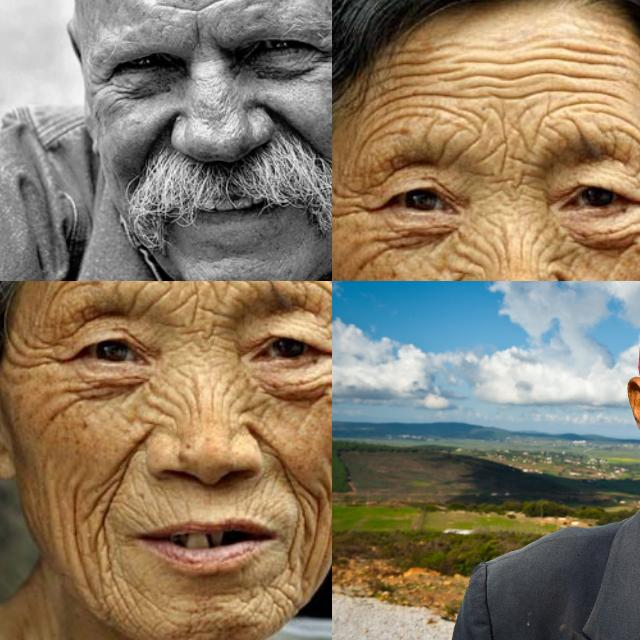bunny_line: (146, 384, 190, 430), (456, 233, 498, 279), (530, 228, 570, 272), (221, 380, 261, 422)
chin: (102, 584, 146, 622), (178, 601, 225, 635), (258, 586, 292, 620)
crows_feet: (16, 338, 60, 372), (332, 186, 369, 221), (90, 69, 118, 97), (316, 36, 332, 65)
forehead: (382, 52, 474, 118), (554, 39, 626, 97), (486, 53, 542, 111), (155, 0, 266, 13)
frown_line: (486, 124, 536, 194), (177, 281, 226, 345), (186, 21, 208, 54)
gummy_smile: (92, 434, 132, 520), (264, 436, 312, 488), (268, 103, 314, 133), (140, 115, 170, 161)
masseter: (40, 479, 66, 535)
sad_smile: (90, 529, 134, 561), (283, 525, 315, 563)
smoker_lines: (146, 492, 188, 518), (245, 496, 279, 520)
